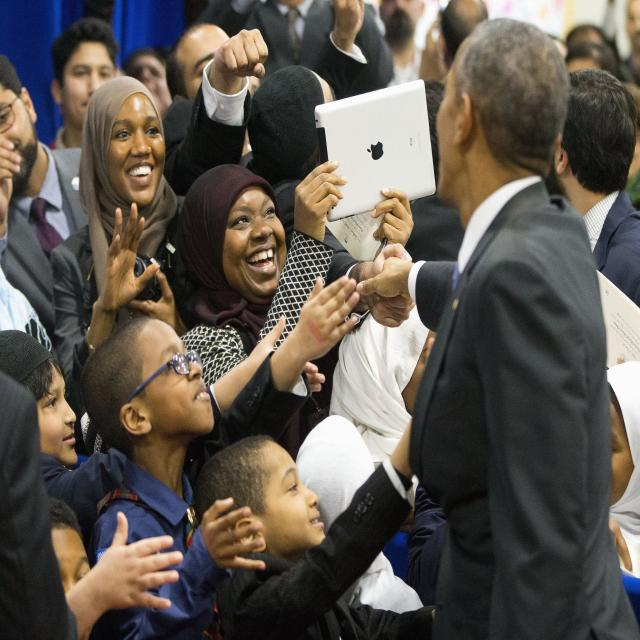body: (356, 15, 640, 640), (141, 0, 638, 231), (175, 160, 414, 497), (80, 323, 269, 640), (85, 312, 268, 639), (190, 430, 440, 640), (0, 378, 180, 637), (49, 88, 194, 408), (298, 296, 439, 613), (0, 52, 85, 352), (553, 65, 640, 308), (40, 16, 133, 150), (605, 359, 639, 622)
